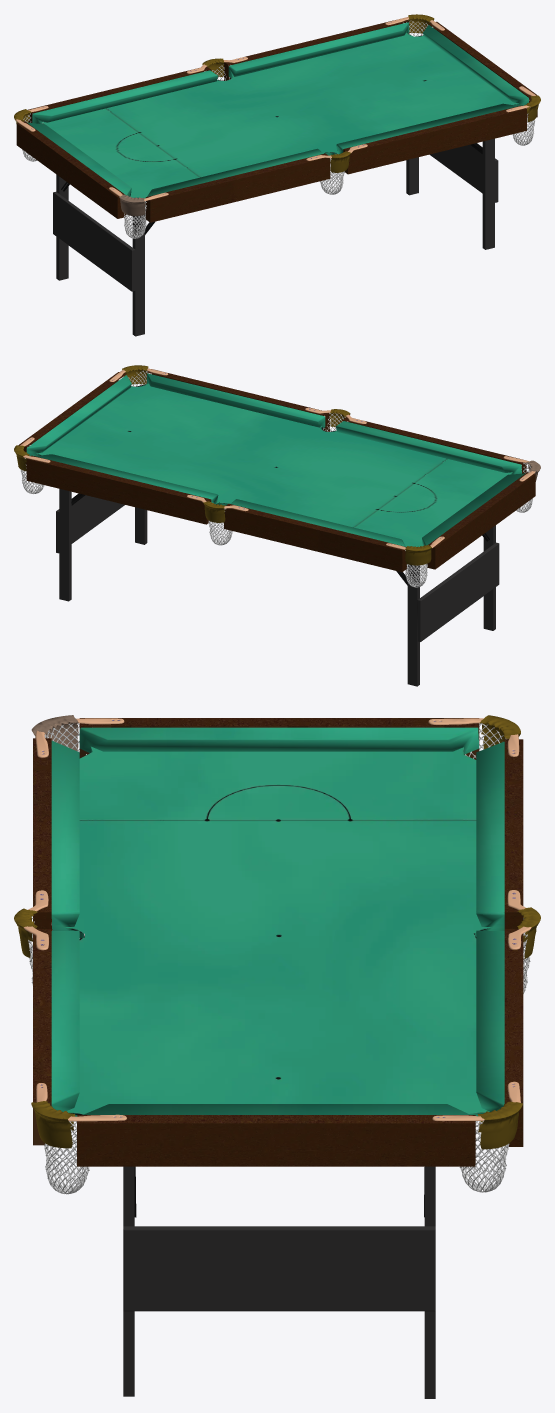
File: pool_table-optimized-optimized-fxdXqeC4.glb
The picture shows the model from 3 angles, top to bottom: view 1: azimuth 30°, elevation 25°; view 2: azimuth 150°, elevation 25°; view 3: azimuth 270°, elevation 25°; orthographic projection. The views are drawn at different scales.
Parts seen in each view (by area): view 1: Table top_3, Wooden Framework_2, Cushions_4, support frame.002_14, Pocket leather covers_13, Pocket netting_11, Pocket brackets_12; view 2: Table top_3, Wooden Framework_2, Cushions_4, support frame.002_14, Pocket leather covers_13, Pocket netting_11, Pocket brackets_12; view 3: Table top_3, Wooden Framework_2, Cushions_4, support frame.002_14, Pocket leather covers_13, Pocket netting_11, Pocket brackets_12.
Boxes of the visible parts, left/top/right/bottom form: Table top_3: left=42, top=33, right=518, bottom=198; Wooden Framework_2: left=16, top=20, right=537, bottom=222; Cushions_4: left=27, top=22, right=528, bottom=202; support frame.002_14: left=53, top=138, right=498, bottom=336; Pocket leather covers_13: left=14, top=14, right=540, bottom=216; Pocket netting_11: left=22, top=20, right=534, bottom=238; Pocket brackets_12: left=15, top=17, right=535, bottom=201; Table top_3: left=36, top=383, right=512, bottom=546; Wooden Framework_2: left=18, top=369, right=535, bottom=572; Cushions_4: left=26, top=373, right=525, bottom=546; support frame.002_14: left=56, top=489, right=499, bottom=686; Pocket leather covers_13: left=14, top=365, right=540, bottom=565; Pocket netting_11: left=21, top=370, right=532, bottom=587; Pocket brackets_12: left=20, top=368, right=535, bottom=549; Table top_3: left=64, top=746, right=491, bottom=1114; Wooden Framework_2: left=33, top=718, right=523, bottom=1166; Cushions_4: left=51, top=727, right=504, bottom=1116; support frame.002_14: left=123, top=1166, right=435, bottom=1398; Pocket leather covers_13: left=14, top=715, right=540, bottom=1149; Pocket netting_11: left=28, top=723, right=530, bottom=1194; Pocket brackets_12: left=23, top=718, right=531, bottom=1121.
Bounding box in the file's own units: 2.15 × 0.7683 × 1.18.
14 materials, 5 textured.
